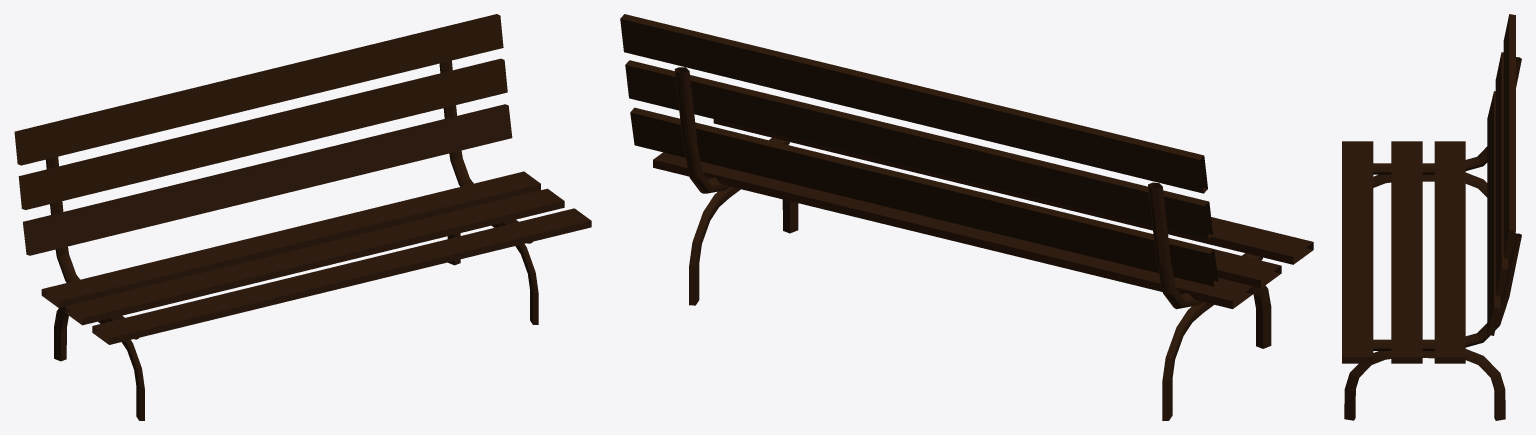
The model's file is bench_plaza.fbx.
3 renders of one model, left to right at view 1: azimuth 30°, elevation 25°; view 2: azimuth 150°, elevation 25°; view 3: azimuth 270°, elevation 25°, orthographic. The views are drawn at different scales.
Parts seen in each view (by area): view 1: Object002; view 2: Object002; view 3: Object002.
Boxes of the visible parts, <box> form: Object002: <box>14,14,591,420</box>; Object002: <box>620,14,1313,420</box>; Object002: <box>1342,14,1521,420</box>.
Size of the model in its own units: 15.19 by 6.96 by 5.35.
